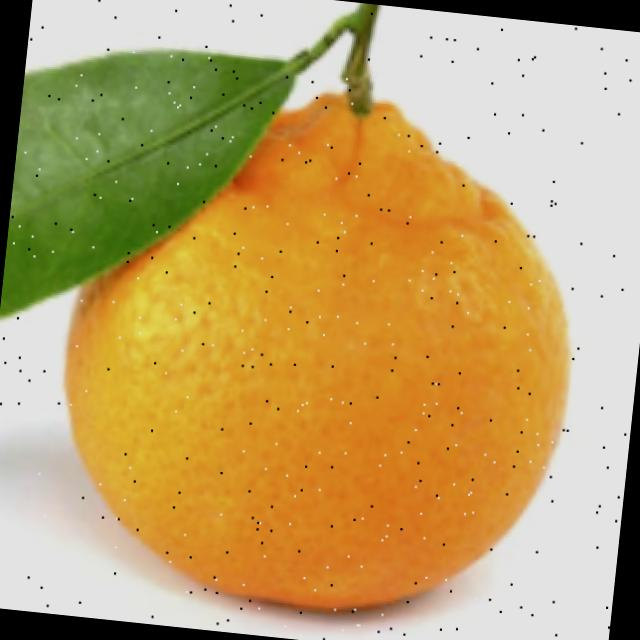orange: (41, 51, 609, 640)
